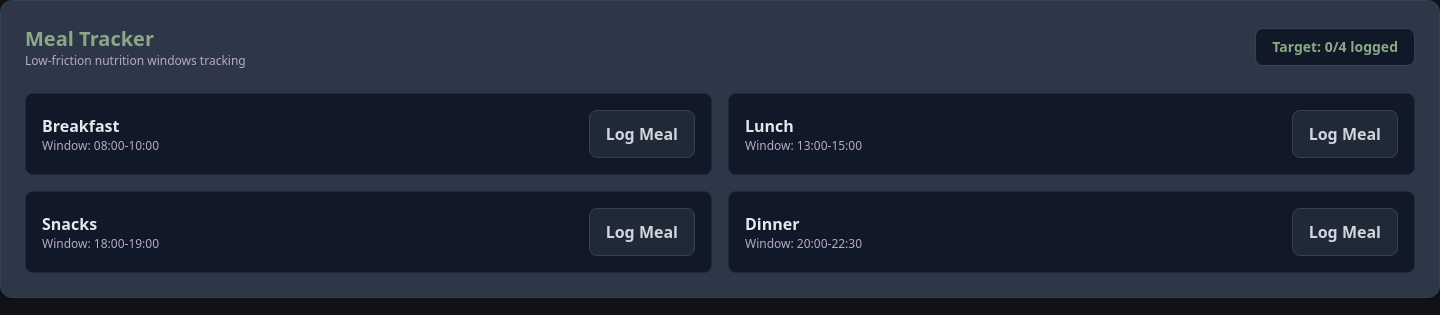
it: AuDHD MBA Life Tracker - Component & View Unit Tests › 4. MealTracker Component › toggles meal windows and updates progress counter to Target: 1/4 logged
Click the button "Log Meal" in the row of "08:00-10:00": click(642, 134) [589,110,695,158]
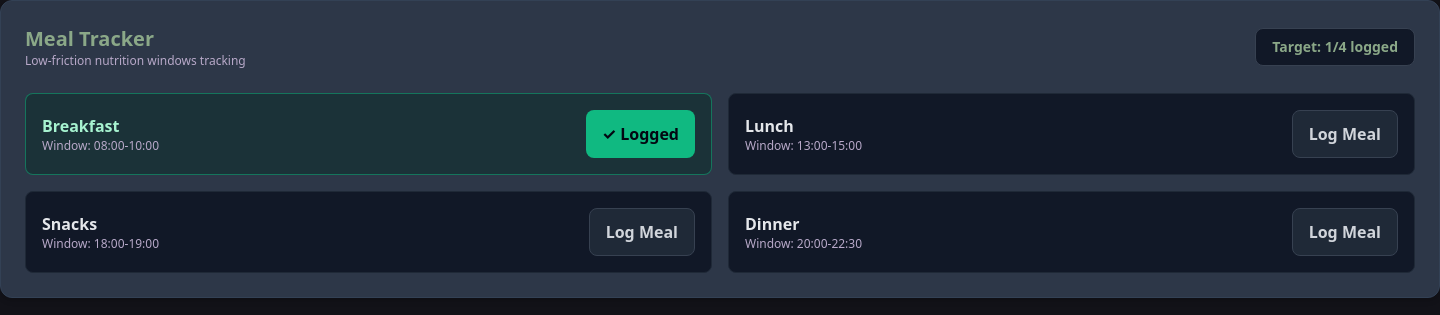
Expected: the text "Target: 1/4 logged" is shown, [1255,28,1415,66]
Expected: the button "✓ Logged" is shown, [586,110,695,158]
